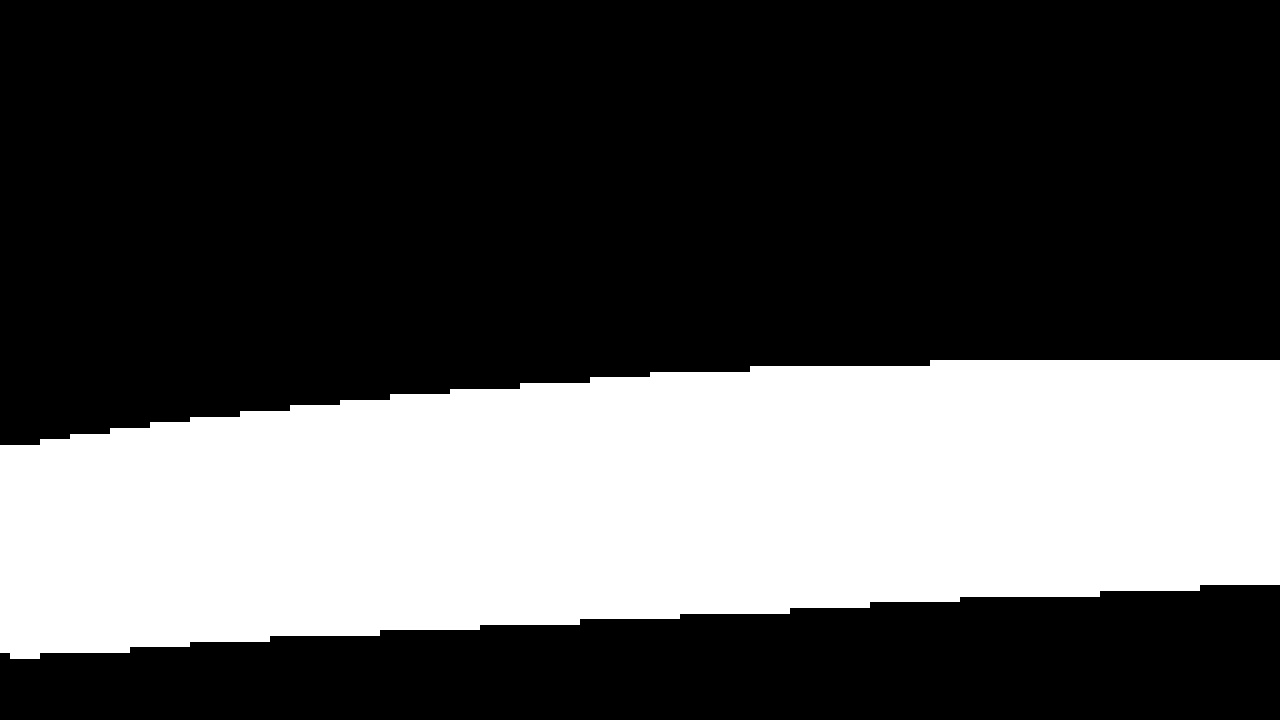Turbine: (11, 321, 1263, 678)
